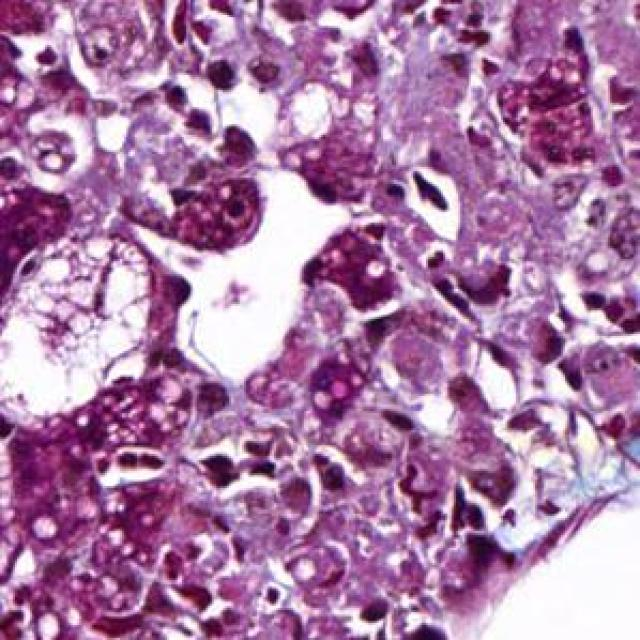ballooning: (0, 231, 156, 430)
